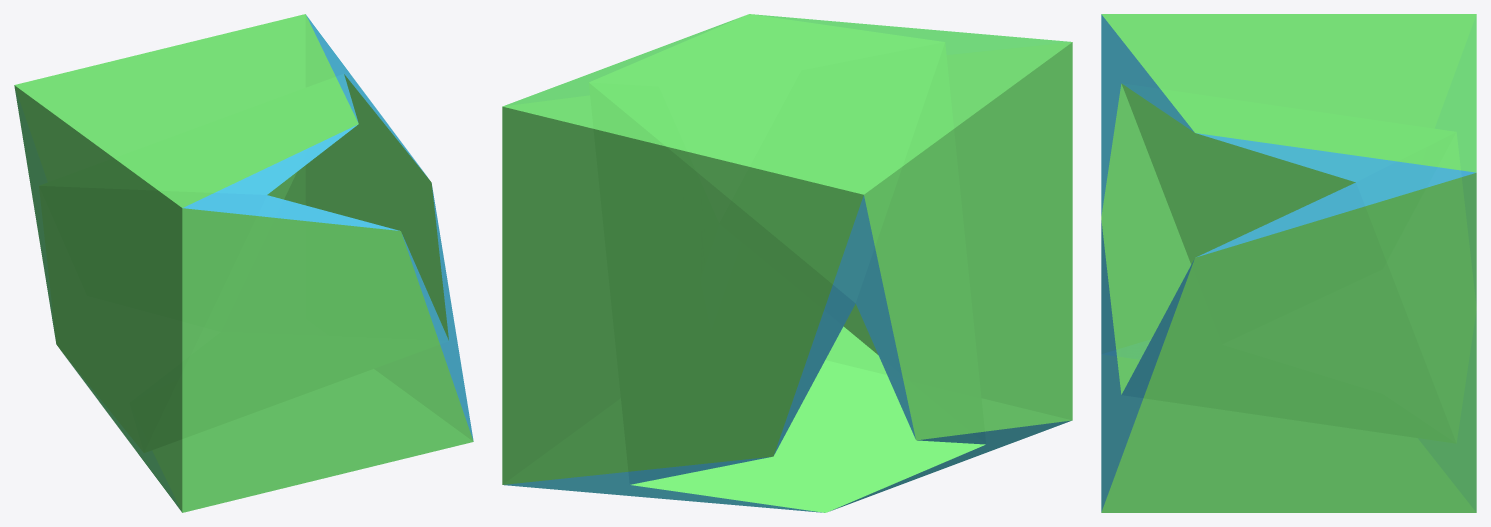
Rendered from Regular3TetragonalToroid_C.obj.
The picture shows the model from 3 angles, left to right: view 1: azimuth 30°, elevation 25°; view 2: azimuth 150°, elevation 25°; view 3: azimuth 270°, elevation 25°; orthographic projection. The views are drawn at different scales.
Size of the model in its own units: 5.6 by 5.6 by 5.6.
